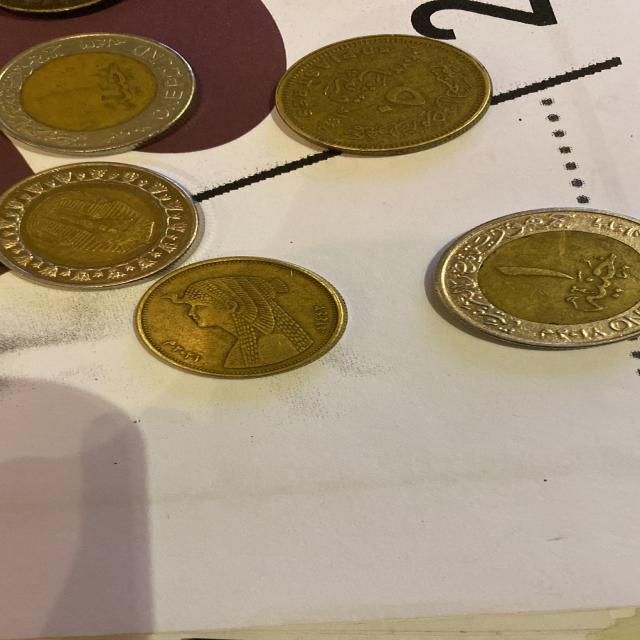Half Pound: (266, 26, 510, 159), (124, 254, 358, 382)
One Pound: (410, 199, 640, 357), (0, 157, 217, 297), (0, 29, 220, 153)
